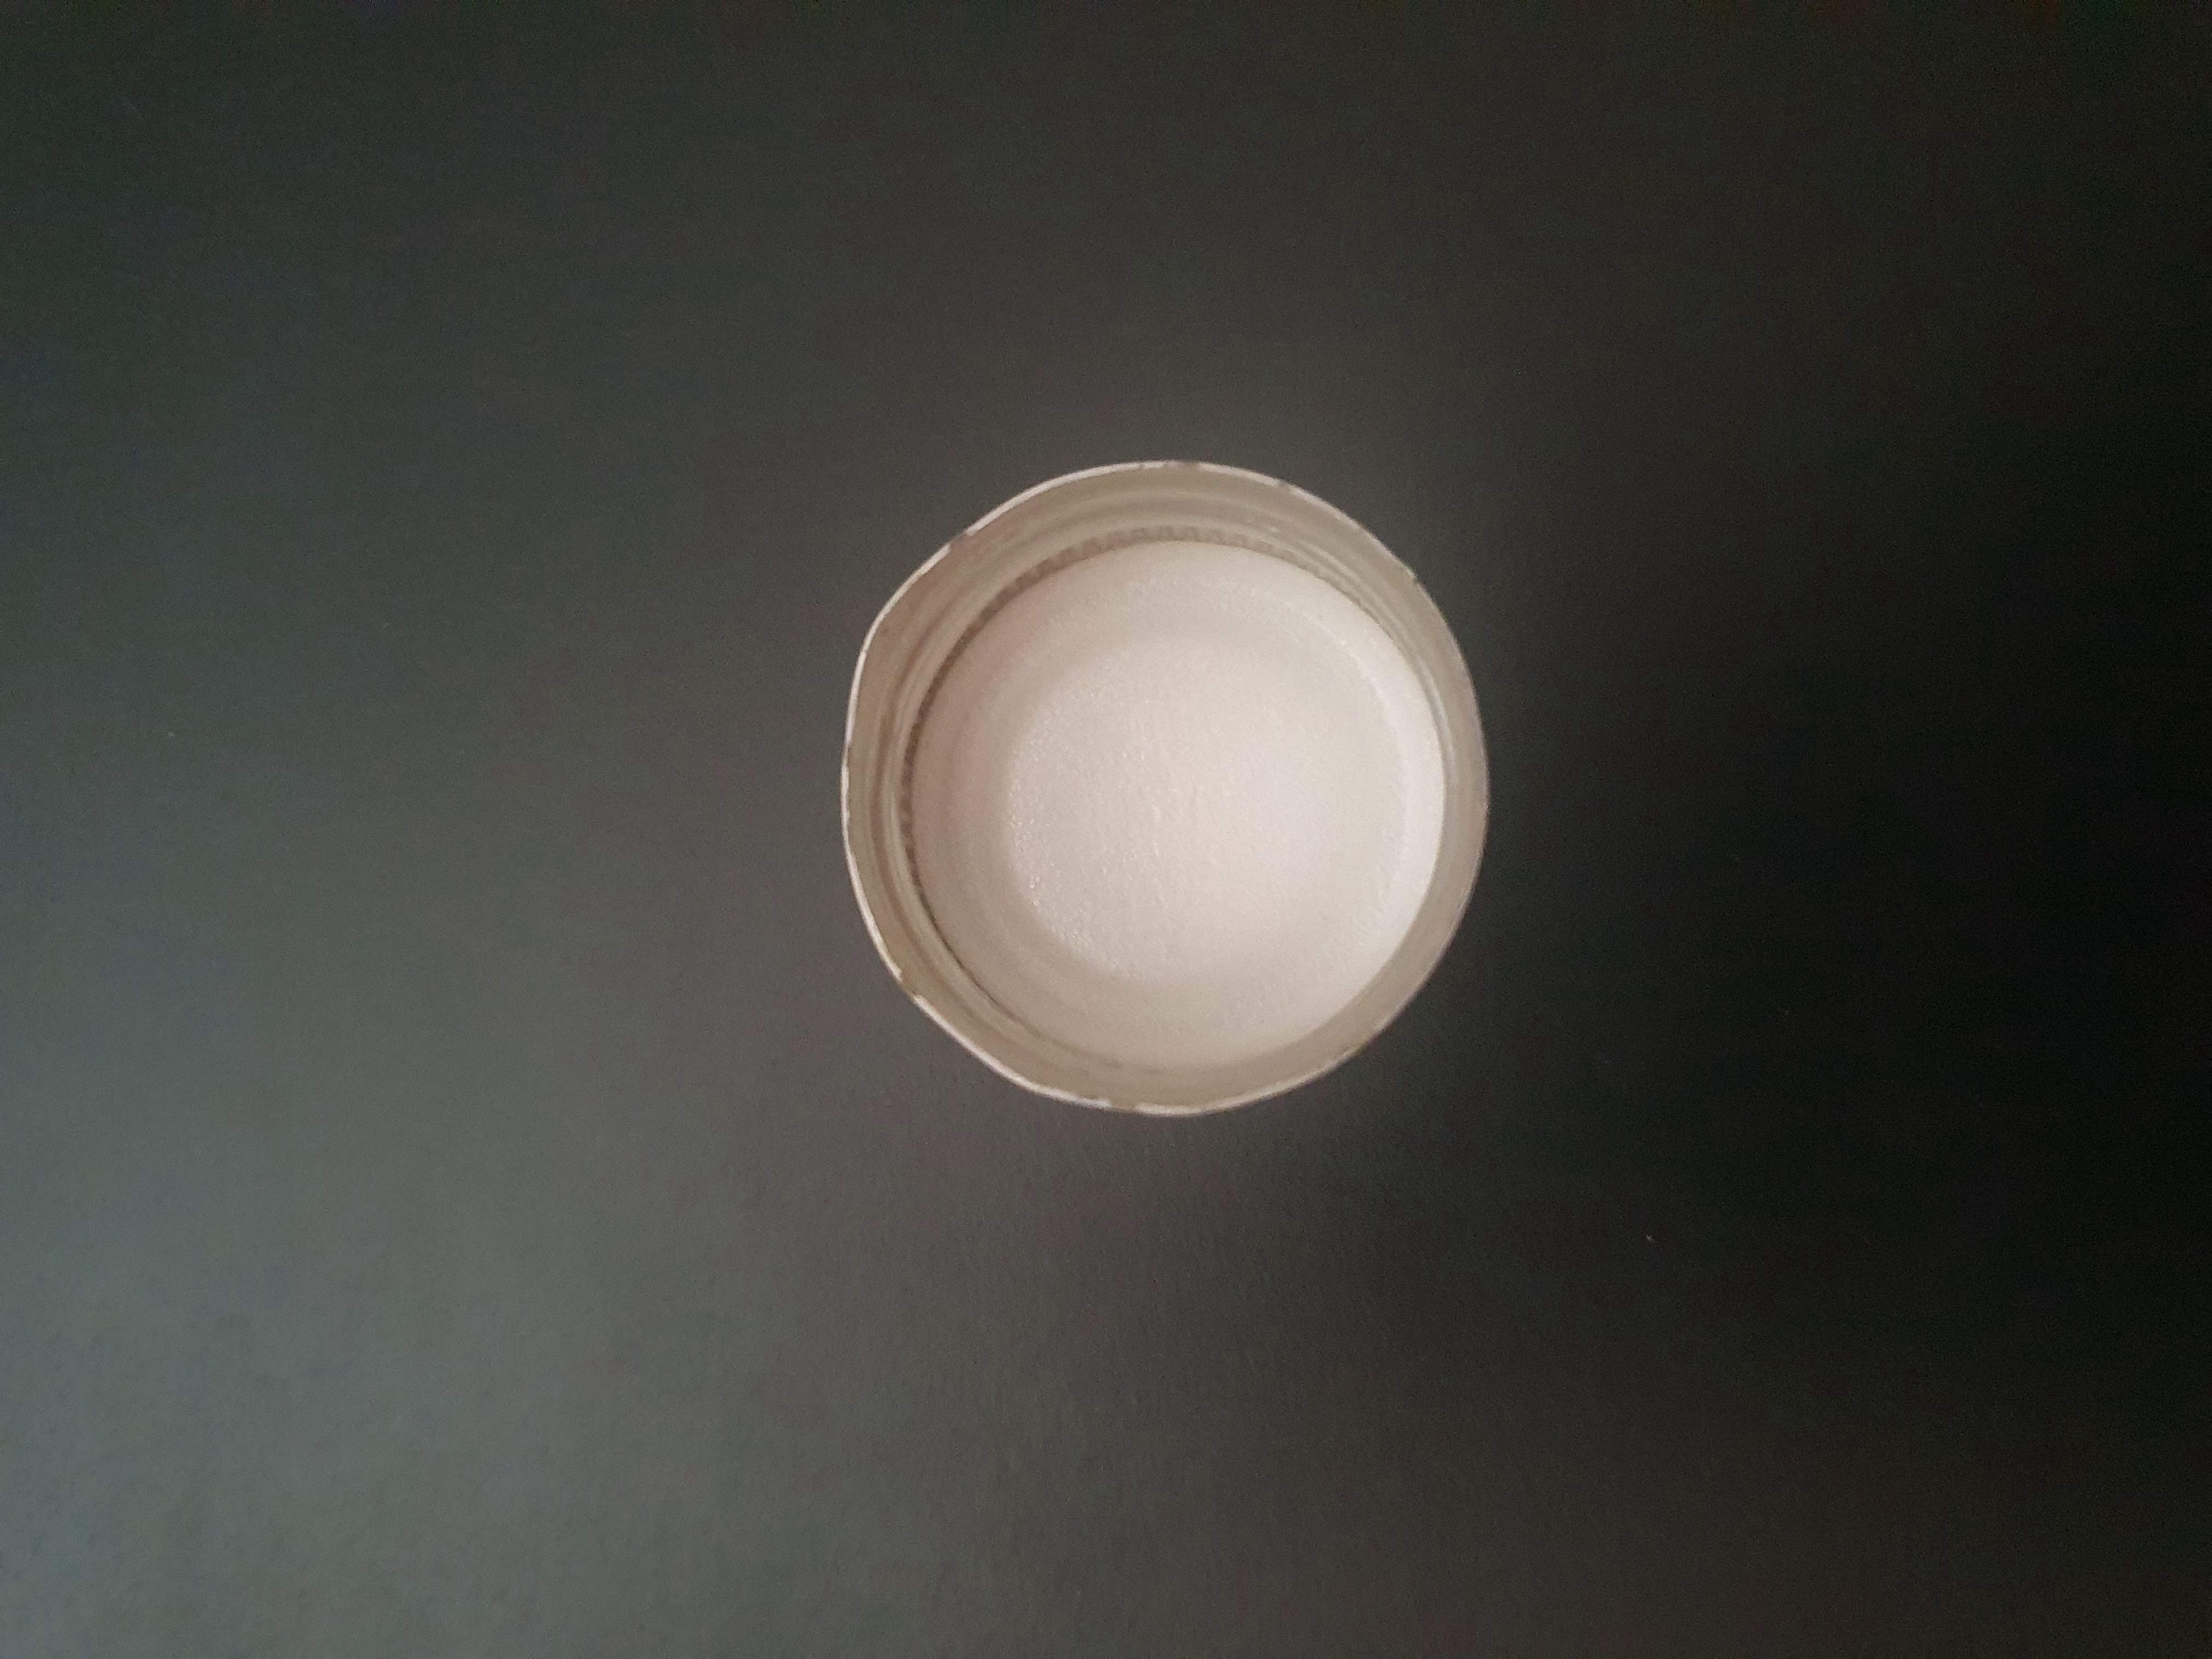metal: (813, 408, 1534, 1171)
